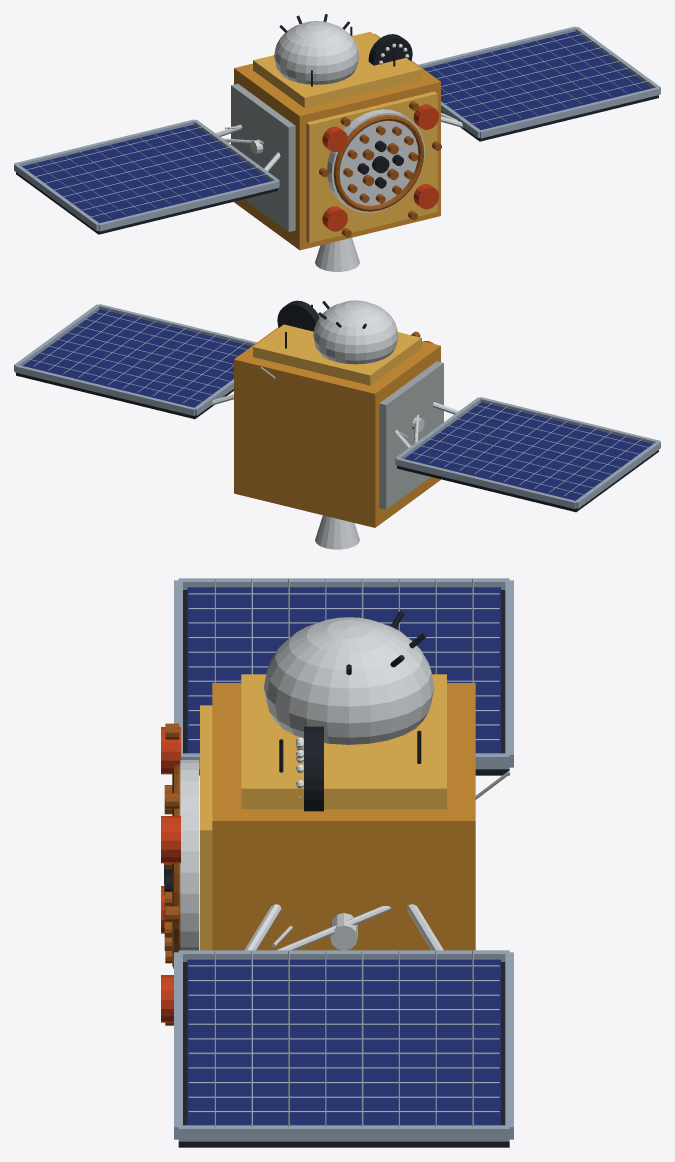
The model's file is IRNSS-1H.glb.
The picture shows the model from 3 angles, top to bottom: view 1: azimuth 30°, elevation 25°; view 2: azimuth 150°, elevation 25°; view 3: azimuth 270°, elevation 25°; orthographic projection. The views are drawn at different scales.
Visible parts, largest first — view 1: IRNSS_1H_LEFT_SOLAR_SURFACE, IRNSS_1H_RIGHT_SOLAR_SURFACE, IRNSS_1H_MAIN_GOLD_BUS, IRNSS_1H_FRONT_GOLD_DECK, IRNSS_1H_LEFT_GREY_EQUIPMENT_PANEL, IRNSS_1H_NAVIGATION_PAYLOAD_PLATE, IRNSS_1H_TOP_SILVER_DOME, IRNSS_1H_TOP_GOLD_PLATFORM, IRNSS_1H_LEFT_SOLAR_FRAME, IRNSS_1H_RIGHT_SOLAR_FRAME, IRNSS_1H_LEFT_SOLAR_GRID, IRNSS_1H_RIGHT_SOLAR_GRID (+9 smaller); view 2: IRNSS_1H_MAIN_GOLD_BUS, IRNSS_1H_LEFT_SOLAR_SURFACE, IRNSS_1H_RIGHT_SOLAR_SURFACE, IRNSS_1H_LEFT_GREY_EQUIPMENT_PANEL, IRNSS_1H_TOP_SILVER_DOME, IRNSS_1H_LEFT_SOLAR_FRAME, IRNSS_1H_TOP_GOLD_PLATFORM, IRNSS_1H_RIGHT_SOLAR_FRAME, IRNSS_1H_LEFT_SOLAR_GRID, IRNSS_1H_RIGHT_SOLAR_GRID, IRNSS_1H_MAIN_ENGINE_NOZZLE, IRNSS_1H_TOP_SMALL_ANTENNA_ARRAY (+3 smaller); view 3: IRNSS_1H_RIGHT_SOLAR_SURFACE, IRNSS_1H_MAIN_GOLD_BUS, IRNSS_1H_LEFT_SOLAR_SURFACE, IRNSS_1H_TOP_SILVER_DOME, IRNSS_1H_TOP_GOLD_PLATFORM, IRNSS_1H_RIGHT_SOLAR_FRAME, IRNSS_1H_RIGHT_SOLAR_GRID, IRNSS_1H_LEFT_SOLAR_FRAME, IRNSS_1H_LEFT_SOLAR_GRID, IRNSS_1H_RIGHT_SOLAR_BACKING, IRNSS_1H_NAVIGATION_PAYLOAD_PLATE, IRNSS_1H_FRONT_GOLD_DECK (+8 smaller).
Boxes of the visible parts, x1,y1,x2,y2 form: IRNSS_1H_LEFT_SOLAR_SURFACE: [22, 124, 270, 223]; IRNSS_1H_RIGHT_SOLAR_SURFACE: [423, 31, 651, 129]; IRNSS_1H_MAIN_GOLD_BUS: [234, 34, 440, 250]; IRNSS_1H_FRONT_GOLD_DECK: [306, 91, 437, 242]; IRNSS_1H_LEFT_GREY_EQUIPMENT_PANEL: [231, 83, 295, 231]; IRNSS_1H_NAVIGATION_PAYLOAD_PLATE: [327, 109, 424, 212]; IRNSS_1H_TOP_SILVER_DOME: [274, 21, 359, 84]; IRNSS_1H_TOP_GOLD_PLATFORM: [253, 31, 421, 107]; IRNSS_1H_LEFT_SOLAR_FRAME: [14, 119, 279, 231]; IRNSS_1H_RIGHT_SOLAR_FRAME: [418, 26, 660, 138]; IRNSS_1H_LEFT_SOLAR_GRID: [25, 125, 268, 218]; IRNSS_1H_RIGHT_SOLAR_GRID: [427, 32, 649, 125]; IRNSS_1H_MAIN_GOLD_BUS: [234, 327, 440, 527]; IRNSS_1H_LEFT_SOLAR_SURFACE: [404, 402, 652, 500]; IRNSS_1H_RIGHT_SOLAR_SURFACE: [23, 309, 251, 407]; IRNSS_1H_LEFT_GREY_EQUIPMENT_PANEL: [379, 361, 443, 509]; IRNSS_1H_TOP_SILVER_DOME: [313, 300, 398, 364]; IRNSS_1H_LEFT_SOLAR_FRAME: [395, 397, 660, 508]; IRNSS_1H_TOP_GOLD_PLATFORM: [253, 312, 421, 385]; IRNSS_1H_RIGHT_SOLAR_FRAME: [14, 304, 256, 415]; IRNSS_1H_LEFT_SOLAR_GRID: [406, 402, 649, 496]; IRNSS_1H_RIGHT_SOLAR_GRID: [25, 310, 247, 403]; IRNSS_1H_MAIN_ENGINE_NOZZLE: [315, 515, 359, 549]; IRNSS_1H_TOP_SMALL_ANTENNA_ARRAY: [277, 300, 319, 331]; IRNSS_1H_RIGHT_SOLAR_SURFACE: [187, 959, 500, 1125]; IRNSS_1H_MAIN_GOLD_BUS: [212, 683, 475, 950]; IRNSS_1H_LEFT_SOLAR_SURFACE: [187, 587, 500, 753]; IRNSS_1H_TOP_SILVER_DOME: [264, 617, 434, 744]; IRNSS_1H_TOP_GOLD_PLATFORM: [241, 674, 446, 809]; IRNSS_1H_RIGHT_SOLAR_FRAME: [174, 950, 513, 1141]; IRNSS_1H_RIGHT_SOLAR_GRID: [188, 951, 499, 1126]; IRNSS_1H_LEFT_SOLAR_FRAME: [174, 578, 513, 769]; IRNSS_1H_LEFT_SOLAR_GRID: [188, 579, 499, 740]; IRNSS_1H_RIGHT_SOLAR_BACKING: [178, 962, 509, 1147]; IRNSS_1H_NAVIGATION_PAYLOAD_PLATE: [180, 760, 199, 950]; IRNSS_1H_FRONT_GOLD_DECK: [200, 705, 212, 950].
Bounding box in the file's own units: 5.19 × 2.14 × 1.41.
